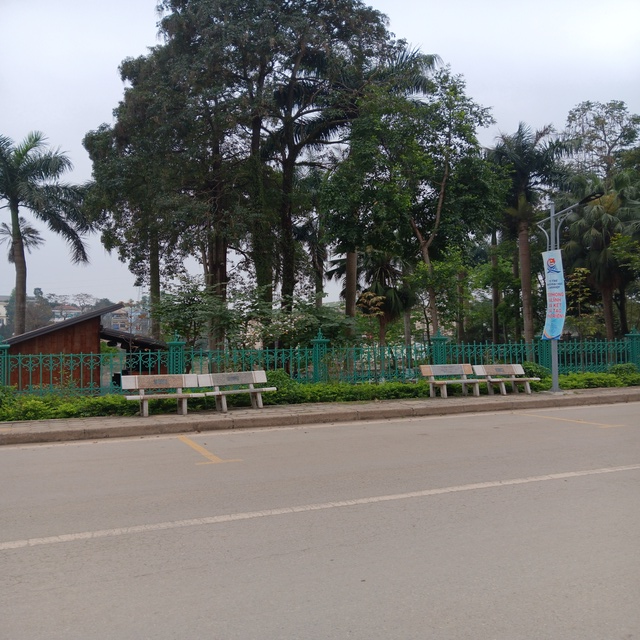gheda: (112, 367, 210, 422), (192, 367, 280, 411), (469, 359, 542, 398), (417, 363, 487, 400)
